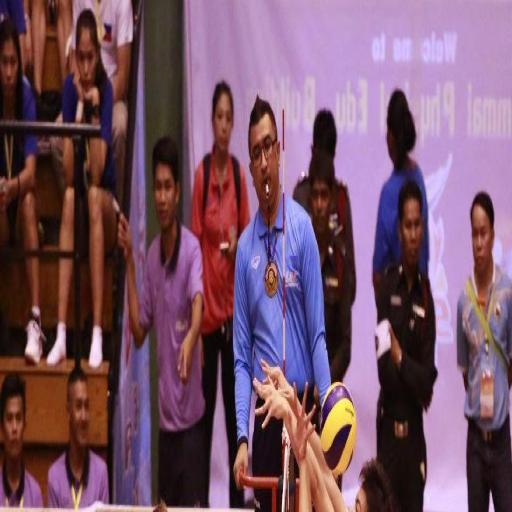person: (234, 97, 330, 487), (118, 137, 205, 506), (191, 82, 249, 507), (254, 361, 395, 511), (60, 10, 116, 368), (377, 181, 437, 511), (457, 191, 511, 511), (70, 0, 133, 204), (73, 0, 133, 201), (373, 90, 428, 299), (309, 151, 351, 381), (48, 368, 108, 509), (0, 374, 43, 507), (0, 133, 38, 250), (329, 177, 356, 304), (24, 0, 47, 94), (0, 0, 26, 73)
